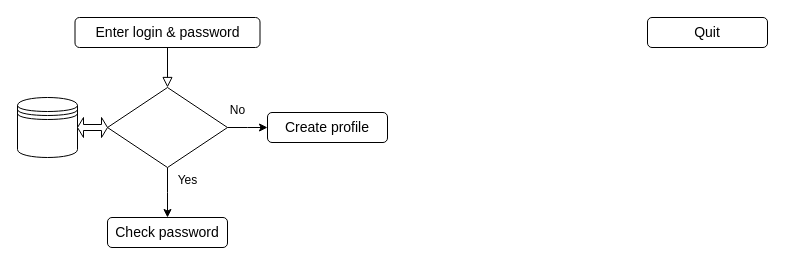
The diagram is 785 pixels wide and 265 high, and some of its shapes have lost their labels. The shapes that lost their labels are listed below. From the top down, each one's centre as x and y in pixels, then its label:
pixel 47 127: Moc
pixel 167 127: check if profile exists
